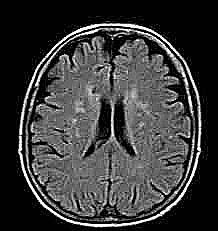Normal_Brain: (2, 1, 218, 231)
